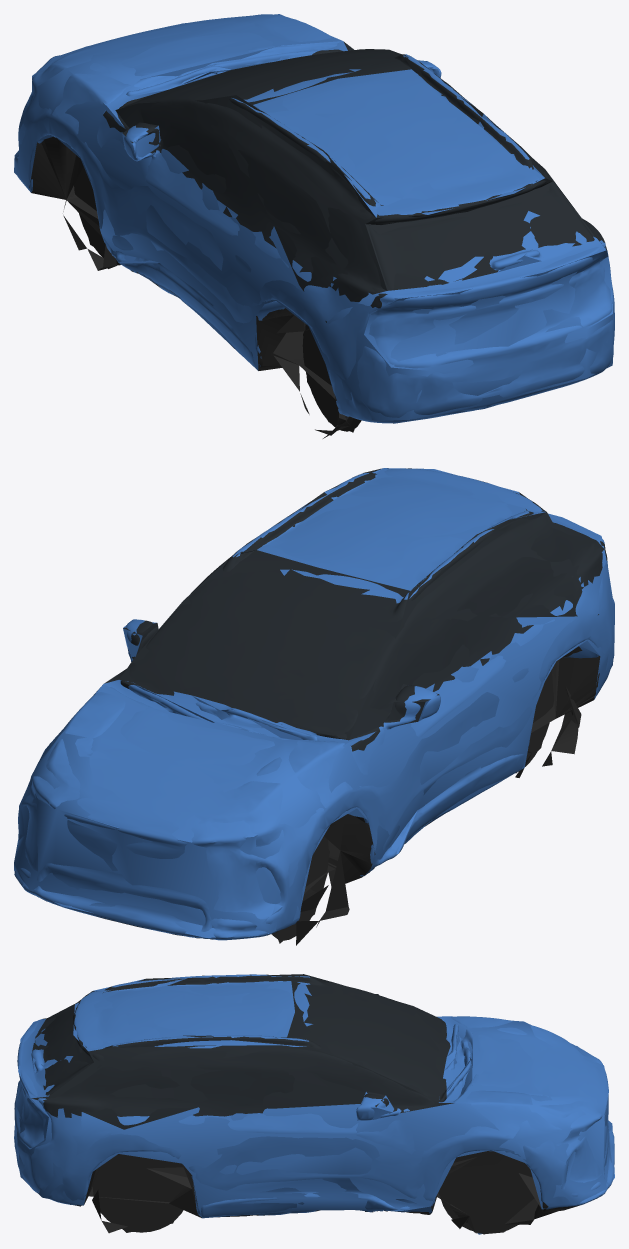
The model's file is toyota-bz4x.glb.
3 renders of one model, top to bottom at view 1: azimuth 30°, elevation 25°; view 2: azimuth 150°, elevation 25°; view 3: azimuth 270°, elevation 25°, orthographic. The views are drawn at different scales.
Parts seen in each view (by area): view 1: body, far; view 2: body, far; view 3: body, far.
Part boxes in pixels (x1,y1,x2,y2): body: [14, 14, 614, 438]; far: [14, 14, 613, 432]; body: [14, 468, 614, 945]; far: [14, 468, 613, 943]; body: [14, 974, 614, 1233]; far: [14, 974, 614, 1234].
Bounding box in the file's own units: 2.15 × 1.7 × 4.76.
